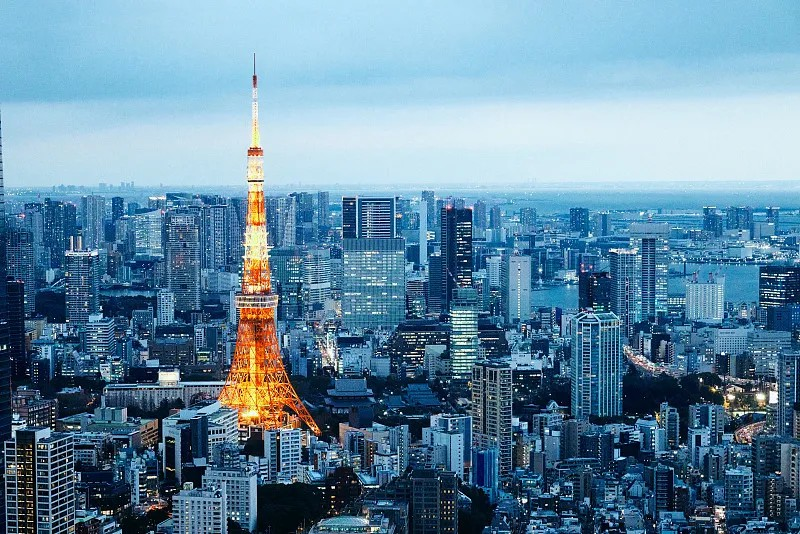Tokyo: (216, 48, 326, 439)
